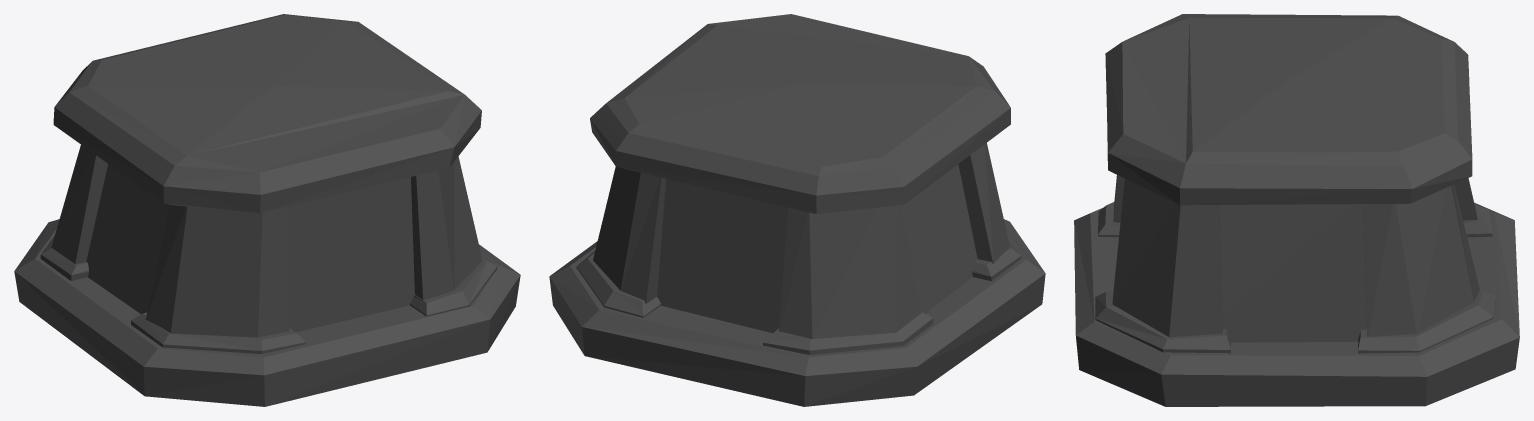
The model's file is StatueStand_01.fbx.
The picture shows the model from 3 angles, left to right: view 1: azimuth 30°, elevation 25°; view 2: azimuth 150°, elevation 25°; view 3: azimuth 270°, elevation 25°; orthographic projection. The views are drawn at different scales.
Parts seen in each view (by area): view 1: Stand.002; view 2: Stand.002; view 3: Stand.002.
Boxes of the visible parts, x1,y1,x2,y2 form: Stand.002: (14, 14, 520, 406); Stand.002: (549, 14, 1045, 406); Stand.002: (1074, 14, 1519, 406).
Size of the model in its own units: 19267 by 10948 by 18943.
